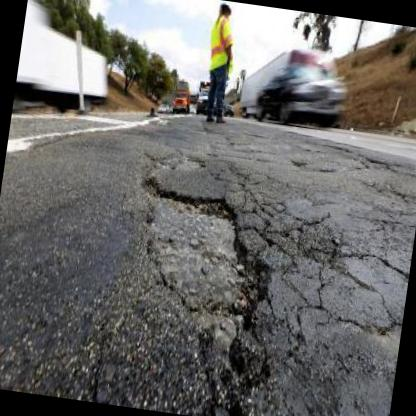pothole: (122, 170, 285, 328), (187, 327, 274, 416), (148, 148, 204, 176)
